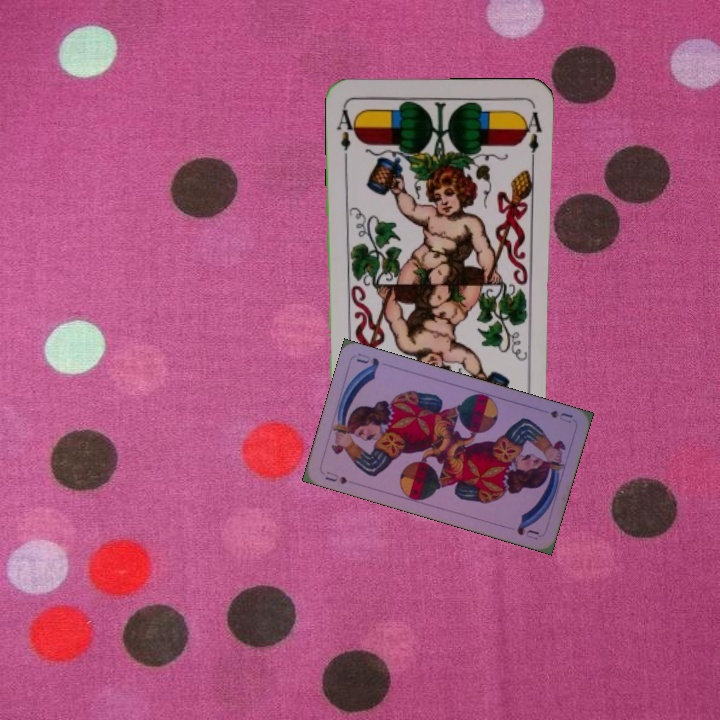EA: (332, 104, 359, 153)
SU: (321, 467, 350, 487), (546, 406, 575, 425)
